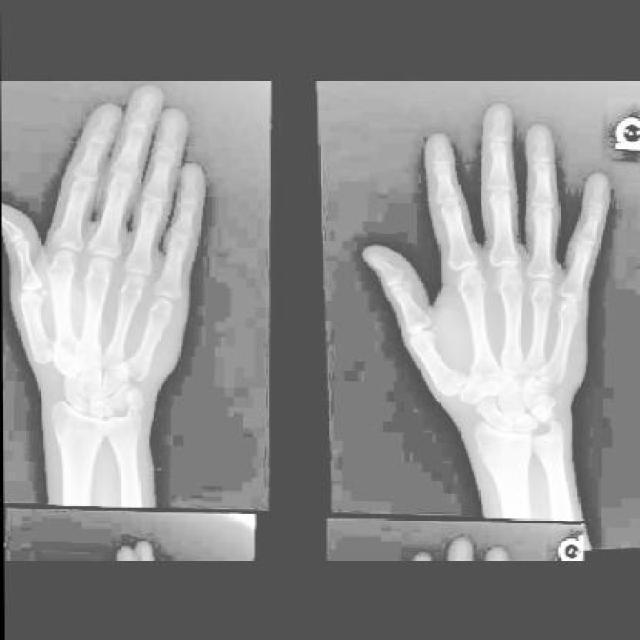Fracture: (442, 368, 465, 391), (42, 337, 61, 360)
